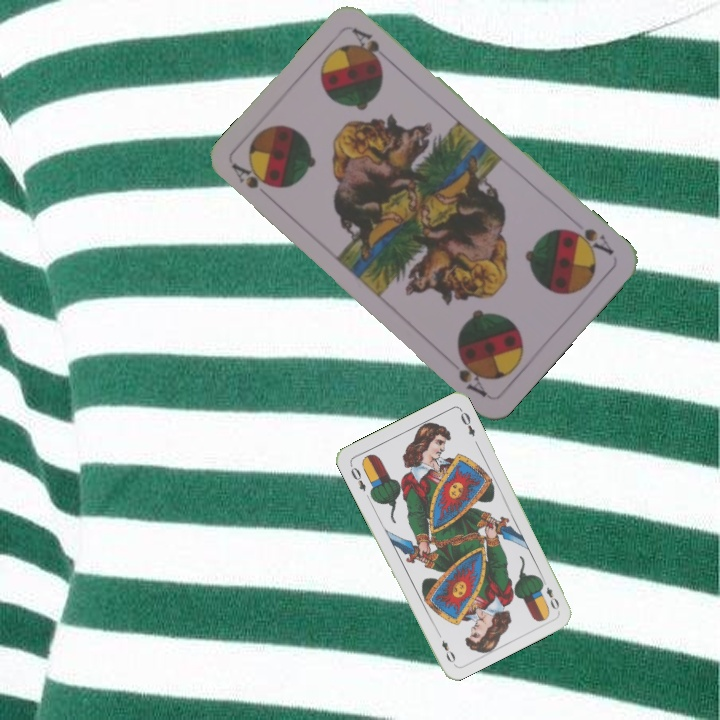EO: (537, 575, 562, 612), (346, 460, 368, 494)
SA: (562, 224, 616, 258), (228, 159, 276, 192)
